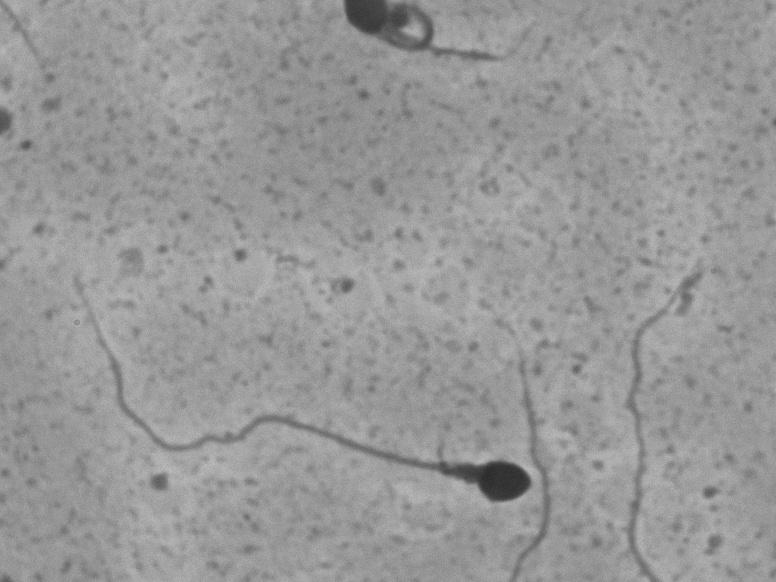Abnormal: (56, 253, 539, 520)
